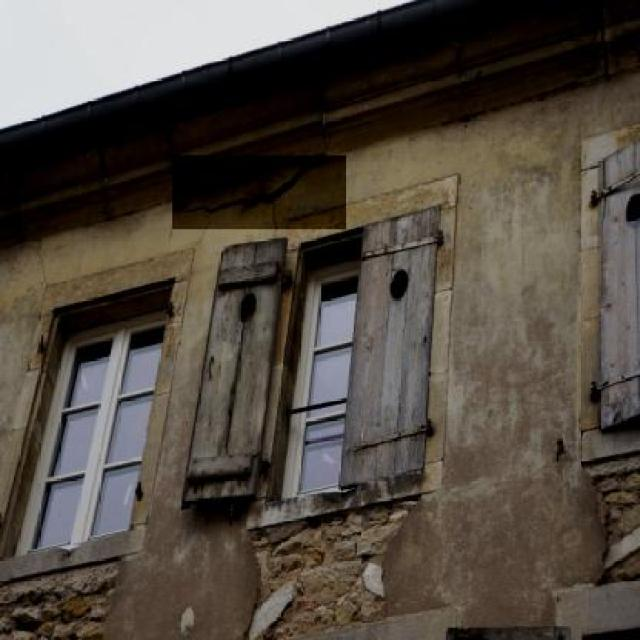Crack: (175, 153, 345, 229)
